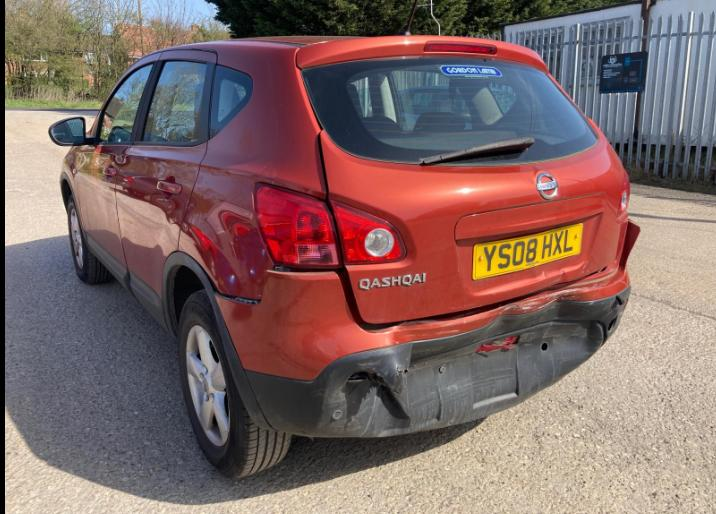Back-bumper: (162, 218, 641, 438)
Back-door: (115, 50, 217, 299)
Back-wheel: (177, 290, 293, 480)
Back-window: (142, 61, 207, 142), (209, 65, 253, 138)
Back-windshield: (302, 54, 598, 166)
Fender: (61, 135, 91, 217)
Front-bumper: (60, 172, 87, 248)
Front-door: (75, 53, 162, 268)
Front-wheel: (67, 196, 115, 285)
Front-window: (99, 64, 153, 143)
License-plate: (472, 224, 583, 281)
Mirror: (48, 117, 100, 146)
Quarter-panel: (179, 157, 327, 300)
Rocker-panel: (87, 232, 168, 333)
Roof: (130, 36, 551, 73)
Tail-light: (255, 183, 406, 269), (616, 167, 630, 223)
Trunk: (301, 53, 629, 325)
